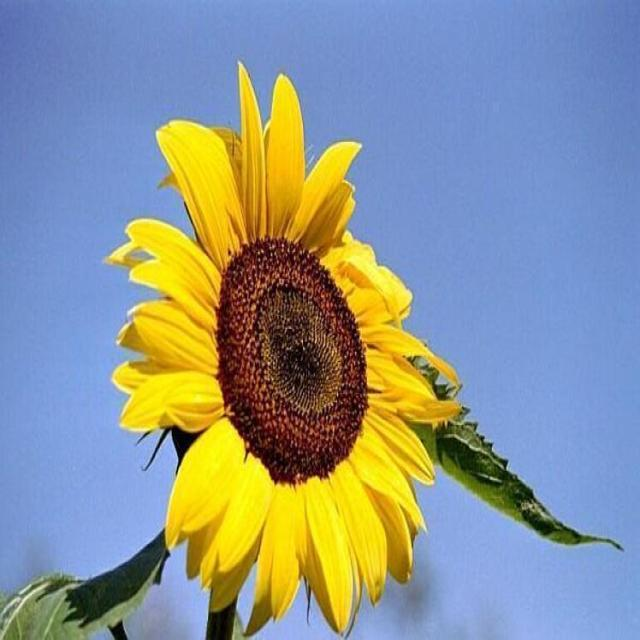sunflower: (101, 46, 464, 640)
